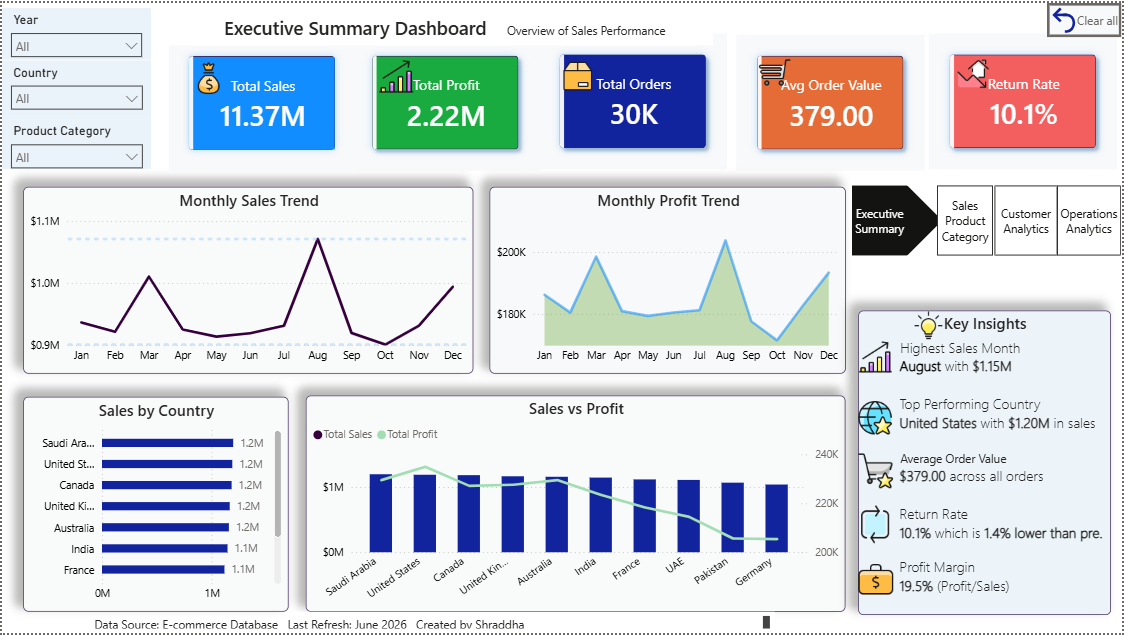

What the dashboard file says about the page in this screenshot:
{"tool":"powerbi","page":{"name":"Executive  Summary","canvas":[1280,720],"ordinal":0},"visuals":[{"type":"cardVisual","fields":{"Data":["ecommerce_orders_dataset.Total Profit"]},"box":[393.9,31.7,225.1,165.9],"z":0},{"type":"cardVisual","fields":{"Data":["ecommerce_orders_dataset.Total Orders"]},"box":[608.8,30.3,225.1,165.9],"z":1000},{"type":"cardVisual","fields":{"Data":["ecommerce_orders_dataset.AOV"]},"box":[833.9,31.7,225.1,165.9],"z":2000},{"type":"cardVisual","fields":{"Data":["ecommerce_orders_dataset.Return Rate %"]},"box":[1054.7,30.3,225.1,165.9],"z":3000},{"type":"lineChart","title":"Monthly Sales Trend ","fields":{"Category":["ecommerce_orders_dataset.Month Name"],"Y":["ecommerce_orders_dataset.Total Sales"]},"box":[24.9,210,514.4,213.6],"z":4000},{"type":"areaChart","title":"Monthly Profit Trend","fields":{"Category":["ecommerce_orders_dataset.Month Name"],"Y":["ecommerce_orders_dataset.Total Profit"]},"box":[557.1,210,407.6,213.6],"z":6000},{"type":"lineClusteredColumnComboChart","title":"Sales vs Profit","fields":{"Category":["ecommerce_orders_dataset.Country"],"Y":["ecommerce_orders_dataset.Total Sales"],"Y2":["ecommerce_orders_dataset.Total Profit"]},"box":[347.1,448.6,617.1,247.1],"z":7000},{"type":"image","box":[422.7,64.9,54.8,39],"z":9000},{"type":"image","box":[864.2,62,37.5,36.1],"z":10000},{"type":"image","box":[1087.2,63.4,46,36.1],"z":11000},{"type":"image","box":[640.6,67.8,36.1,33.2],"z":12000},{"type":"textbox","title":"Key Insights","box":[978.2,352,288.6,347.7],"z":13000},{"type":"slicer","fields":{"Values":["ecommerce_orders_dataset.Year N"]},"box":[0,5.8,170.2,59.2],"z":14000},{"type":"slicer","fields":{"Values":["ecommerce_orders_dataset.Country"]},"box":[0,65.4,170.7,66.8],"z":15000},{"type":"slicer","fields":{"Values":["ecommerce_orders_dataset.Product_Category"]},"box":[0,132.3,170.7,56.9],"z":16000},{"type":"actionButton","box":[1194.6,0,85.1,39],"z":17000},{"type":"pageNavigator","box":[971,209.2,103.9,80.8],"z":18000},{"type":"pageNavigator","box":[1069.1,209.2,64.9,80.8],"z":19000},{"type":"pageNavigator","box":[1134,209.2,72.1,80.8],"z":20000},{"type":"pageNavigator","box":[1206.1,209.2,73.6,80.8],"z":21000},{"type":"image","box":[1043.1,352,31.7,33.2],"z":22000},{"type":"image","box":[978.2,450.1,40.4,47.6],"z":24000},{"type":"image","box":[978.2,497.8,41.8,75],"z":25000},{"type":"image","box":[971,574.2,53.4,43.3],"z":26000},{"type":"image","box":[978.2,639.1,40.4,40.4],"z":27000},{"type":"image","box":[978.2,385.2,39,37.5],"z":28000},{"type":"textbox","box":[100,695.7,782.9,24.3],"z":29000},{"type":"cardVisual","fields":{"Data":["ecommerce_orders_dataset.Total Sales"]},"box":[186.1,33.2,225.1,165.9],"z":30000},{"type":"textbox","box":[182.9,8.7,629.4,39.8],"z":30500},{"type":"image","box":[209.2,67.8,54.8,37.5],"z":31000},{"type":"clusteredBarChart","title":"Sales by Country","fields":{"Category":["ecommerce_orders_dataset.Country"],"Y":["ecommerce_orders_dataset.Total Sales"]},"box":[24.3,450,302.9,245.7],"z":31500}]}

Visuals, with their boxes in screenshot pixels (x1, y1, x2, y2), scaled from the page's 1280x720 canvas onto the 1124x636 screenshot:
cardVisual - ecommerce_orders_dataset.Total Profit: pyautogui.locateOnScreen(346, 28, 544, 175)
cardVisual - ecommerce_orders_dataset.Total Orders: pyautogui.locateOnScreen(535, 27, 732, 173)
cardVisual - ecommerce_orders_dataset.AOV: pyautogui.locateOnScreen(732, 28, 930, 175)
cardVisual - ecommerce_orders_dataset.Return Rate %: pyautogui.locateOnScreen(926, 27, 1123, 173)
"Monthly Sales Trend " lineChart: pyautogui.locateOnScreen(22, 186, 474, 374)
"Monthly Profit Trend" areaChart: pyautogui.locateOnScreen(489, 186, 847, 374)
"Sales vs Profit" lineClusteredColumnComboChart: pyautogui.locateOnScreen(305, 396, 847, 615)
image: pyautogui.locateOnScreen(371, 57, 419, 92)
image: pyautogui.locateOnScreen(759, 55, 792, 87)
image: pyautogui.locateOnScreen(955, 56, 995, 88)
image: pyautogui.locateOnScreen(563, 60, 594, 89)
"Key Insights" textbox: pyautogui.locateOnScreen(859, 311, 1112, 618)
slicer - ecommerce_orders_dataset.Year N: pyautogui.locateOnScreen(0, 5, 149, 57)
slicer - ecommerce_orders_dataset.Country: pyautogui.locateOnScreen(0, 58, 150, 117)
slicer - ecommerce_orders_dataset.Product_Category: pyautogui.locateOnScreen(0, 117, 150, 167)
actionButton: pyautogui.locateOnScreen(1049, 0, 1123, 34)
pageNavigator: pyautogui.locateOnScreen(853, 185, 944, 256)
pageNavigator: pyautogui.locateOnScreen(939, 185, 996, 256)
pageNavigator: pyautogui.locateOnScreen(996, 185, 1059, 256)
pageNavigator: pyautogui.locateOnScreen(1059, 185, 1123, 256)
image: pyautogui.locateOnScreen(916, 311, 944, 340)
image: pyautogui.locateOnScreen(859, 398, 894, 440)
image: pyautogui.locateOnScreen(859, 440, 896, 506)
image: pyautogui.locateOnScreen(853, 507, 900, 545)
image: pyautogui.locateOnScreen(859, 565, 894, 600)
image: pyautogui.locateOnScreen(859, 340, 893, 373)
textbox: pyautogui.locateOnScreen(88, 615, 775, 635)
cardVisual - ecommerce_orders_dataset.Total Sales: pyautogui.locateOnScreen(163, 29, 361, 176)
textbox: pyautogui.locateOnScreen(161, 8, 713, 43)
image: pyautogui.locateOnScreen(184, 60, 232, 93)
"Sales by Country" clusteredBarChart: pyautogui.locateOnScreen(21, 398, 287, 615)
